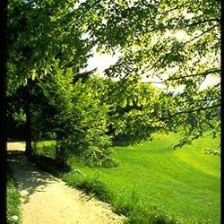neutral: (7, 1, 220, 224)
